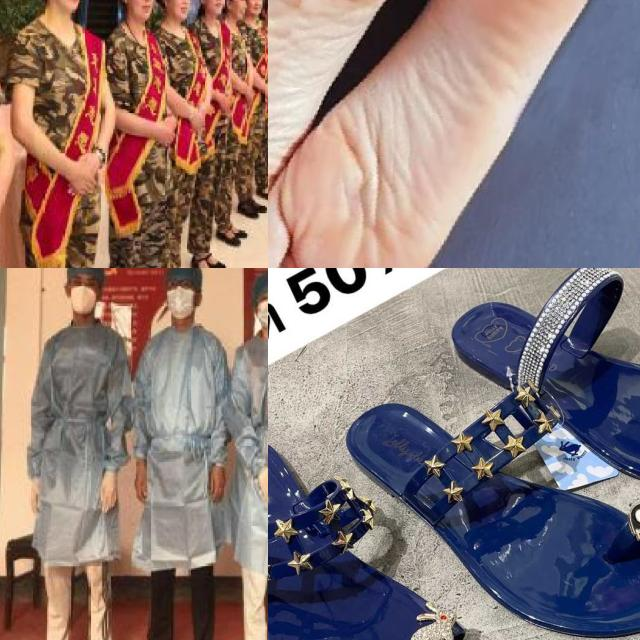Barefoots: (268, 0, 624, 268), (268, 0, 453, 268)
Sandals: (349, 376, 640, 640), (268, 418, 487, 640), (432, 268, 640, 495)
face_mask: (164, 270, 198, 320), (67, 273, 102, 319), (254, 286, 268, 332)
face_nomask: (163, 0, 196, 24), (124, 0, 155, 21), (230, 0, 250, 19), (204, 0, 224, 16), (248, 0, 265, 16)
glasses: (165, 275, 198, 290)
hand_glove: (25, 476, 44, 517), (100, 472, 118, 512), (257, 466, 268, 503)
hand_noglove: (69, 158, 96, 197), (207, 463, 225, 505), (131, 461, 147, 504), (155, 121, 178, 149), (192, 109, 206, 133), (221, 97, 233, 115), (242, 88, 254, 104), (262, 84, 268, 104)
head_nohelmet: (158, 268, 204, 289), (246, 271, 268, 297), (61, 268, 106, 277)
person: (25, 268, 125, 640), (128, 268, 225, 640), (10, 0, 97, 268), (134, 0, 205, 268), (104, 0, 165, 268), (225, 269, 268, 640), (195, 0, 241, 268)
